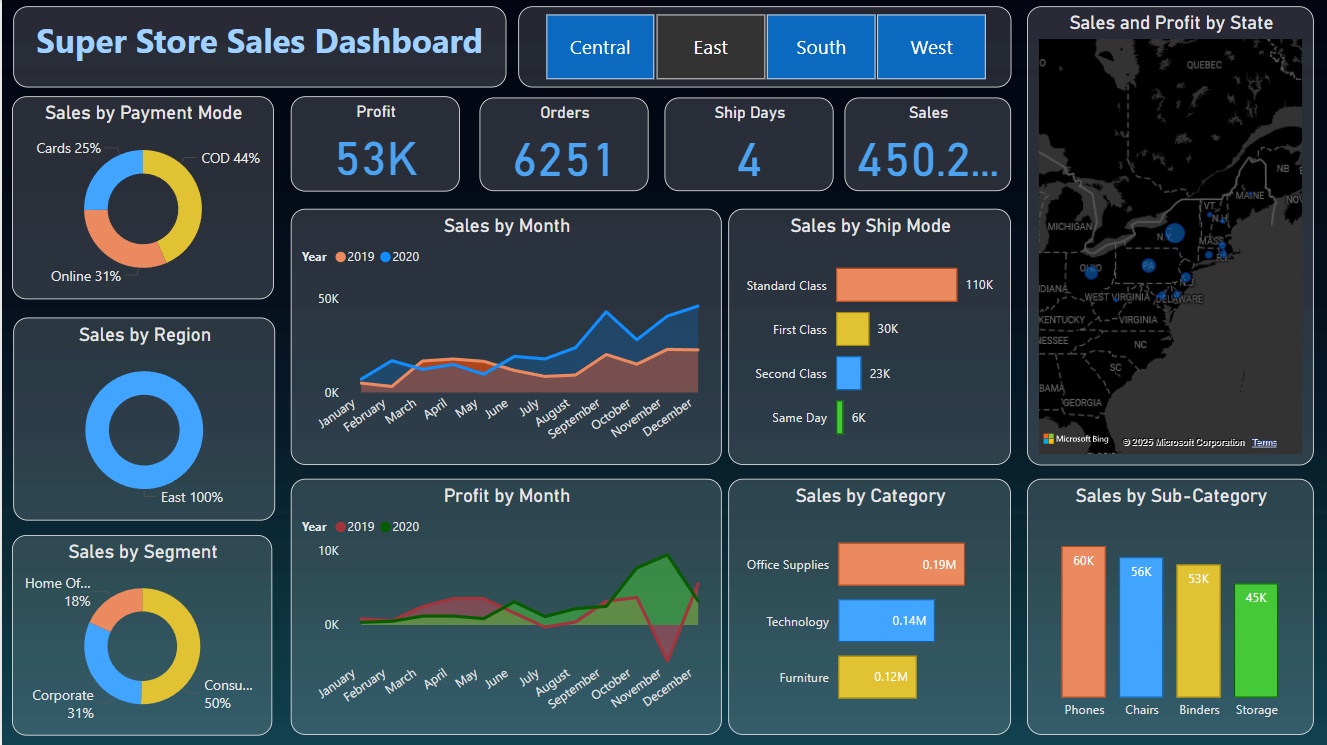

The page's visual inventory and layout, read from the dashboard file:
{"tool":"powerbi","page":{"name":"Page 1","canvas":[1280,720],"ordinal":0},"visuals":[{"type":"clusteredBarChart","title":"Sales by Category","fields":{"Category":["Sheet1.Category"],"Y":["Sum(Sheet1.Sales)"]},"box":[701.2,462.4,273.1,247],"z":0},{"type":"clusteredColumnChart","title":"Sales by Sub-Category","fields":{"Category":["Sheet1.Sub-Category"],"Y":["Sum(Sheet1.Sales)"]},"box":[989.4,462.4,277.2,247],"z":1000},{"type":"clusteredBarChart","title":"Sales by Ship Mode","fields":{"Category":["Sheet1.Ship Mode"],"Y":["Sum(Sheet1.Sales)"]},"box":[701.2,201.7,273.1,247],"z":2000},{"type":"areaChart","title":"Sales by Month","fields":{"Series":["Sheet1.Order Date.Variation.Date Hierarchy.Year"],"Category":["Sheet1.Order Date.Variation.Date Hierarchy.Month","Sheet1.Order Date.Variation.Date Hierarchy.Day"],"Y":["Sum(Sheet1.Sales)"]},"box":[278.6,201.7,415.8,247],"z":3000},{"type":"areaChart","title":"Profit by Month ","fields":{"Category":["Sheet1.Order Date.Variation.Date Hierarchy.Month","Sheet1.Order Date.Variation.Date Hierarchy.Day"],"Y":["Sum(Sheet1.Profit)"],"Series":["Sheet1.Order Date.Variation.Date Hierarchy.Year"]},"box":[278.6,462.4,415.8,247],"z":4000},{"type":"map","title":"Sales and Profit by State","fields":{"Category":["Sheet1.State"],"Size":["Sum(Sheet1.Sales)"]},"box":[989.4,5.5,277.2,443.2],"z":5000},{"type":"donutChart","title":"Sales by Segment","fields":{"Category":["Sheet1.Segment"],"Y":["Sum(Sheet1.Sales)"]},"box":[9.6,516,251.1,193.5],"z":6000},{"type":"donutChart","title":"Sales by Payment Mode","fields":{"Category":["Sheet1.Payment Mode"],"Y":["Sum(Sheet1.Sales)"]},"box":[9.6,93.3,252.5,196.2],"z":7000},{"type":"donutChart","title":"Sales by Region","fields":{"Category":["Sheet1.Region"],"Y":["Sum(Sheet1.Sales)"]},"box":[11,306,252.5,196.2],"z":8000},{"type":"slicer","fields":{"Values":["Sheet1.Region"]},"box":[498.1,5.5,476.2,78.2],"z":9000},{"type":"textbox","box":[11,5.5,476.2,78.2],"z":10000},{"type":"card","title":"Sales","fields":{"Values":["Sum(Sheet1.Sales)"]},"box":[813.7,94.7,160.5,90.6],"z":11000},{"type":"card","title":"Orders","fields":{"Values":["Sum(Sheet1.Quantity)"]},"box":[461.1,94.7,163.3,90.6],"z":12000},{"type":"card","title":"Profit","fields":{"Values":["Sum(Sheet1.Profit)"]},"box":[278.6,93.3,163.3,91.9],"z":13000},{"type":"card","title":"Ship Days","fields":{"Values":["Avg(Sheet1.AvgDelivery)"]},"box":[639.5,94.7,163.3,90.6],"z":14000}]}

Visuals, with their boxes in screenshot pixels (x1, y1, x2, y2), scaled from the page's 1280x720 canvas onto the 1327x745 screenshot:
"Sales by Category" clusteredBarChart: box(727, 478, 1010, 734)
"Sales by Sub-Category" clusteredColumnChart: box(1026, 478, 1313, 734)
"Sales by Ship Mode" clusteredBarChart: box(727, 209, 1010, 464)
"Sales by Month" areaChart: box(289, 209, 720, 464)
"Profit by Month " areaChart: box(289, 478, 720, 734)
"Sales and Profit by State" map: box(1026, 6, 1313, 464)
"Sales by Segment" donutChart: box(10, 534, 270, 734)
"Sales by Payment Mode" donutChart: box(10, 97, 272, 300)
"Sales by Region" donutChart: box(11, 317, 273, 520)
slicer - Sheet1.Region: box(516, 6, 1010, 87)
textbox: box(11, 6, 505, 87)
"Sales" card: box(844, 98, 1010, 192)
"Orders" card: box(478, 98, 647, 192)
"Profit" card: box(289, 97, 458, 192)
"Ship Days" card: box(663, 98, 832, 192)
